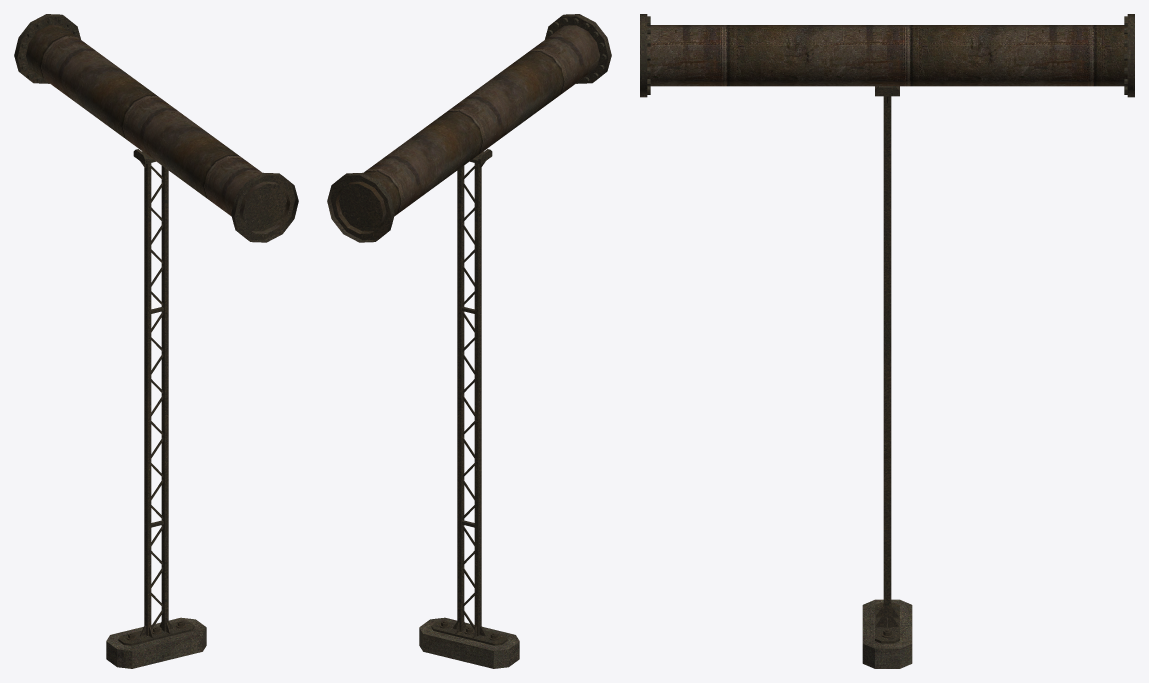
Rendered from pipe_dx_1.glb.
3 views of the same model, side by side, from view 1: azimuth 30°, elevation 25°; view 2: azimuth 150°, elevation 25°; view 3: azimuth 270°, elevation 25° (orthographic). The views are drawn at different scales.
Visible parts, largest first — view 1: pipe_dx_1; view 2: pipe_dx_1; view 3: pipe_dx_1.
Boxes of the visible parts, x1,y1,x2,y2 form: pipe_dx_1: (14, 14, 298, 668); pipe_dx_1: (327, 14, 611, 668); pipe_dx_1: (640, 14, 1134, 668).
Bounding box in the file's own units: 0.94 × 5.59 × 4.
Materials: 3 (3 with a texture image).
